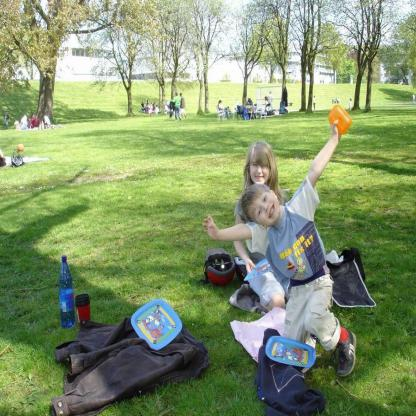face: (253, 192, 281, 227), (251, 159, 270, 185), (221, 103, 222, 105)
